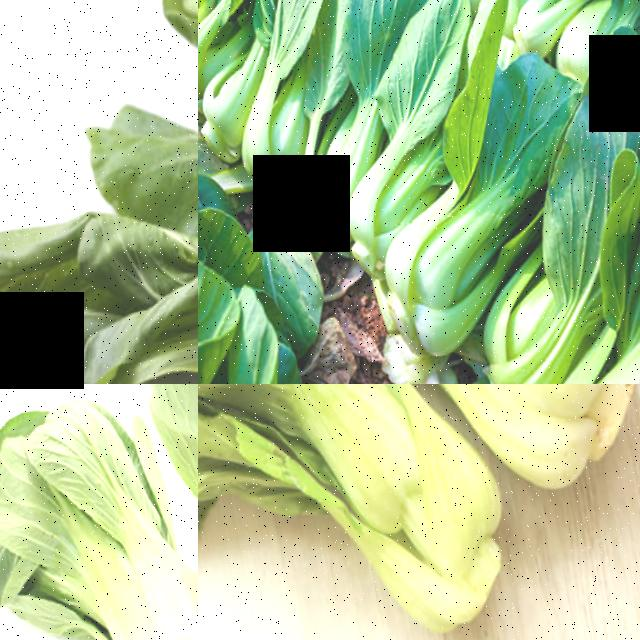bok choy: (198, 384, 455, 640), (341, 168, 603, 384), (0, 384, 198, 640), (0, 165, 198, 384), (393, 384, 640, 522), (227, 0, 350, 224), (351, 10, 479, 220), (132, 384, 198, 621), (520, 260, 640, 384), (491, 0, 640, 46), (198, 0, 236, 102)
